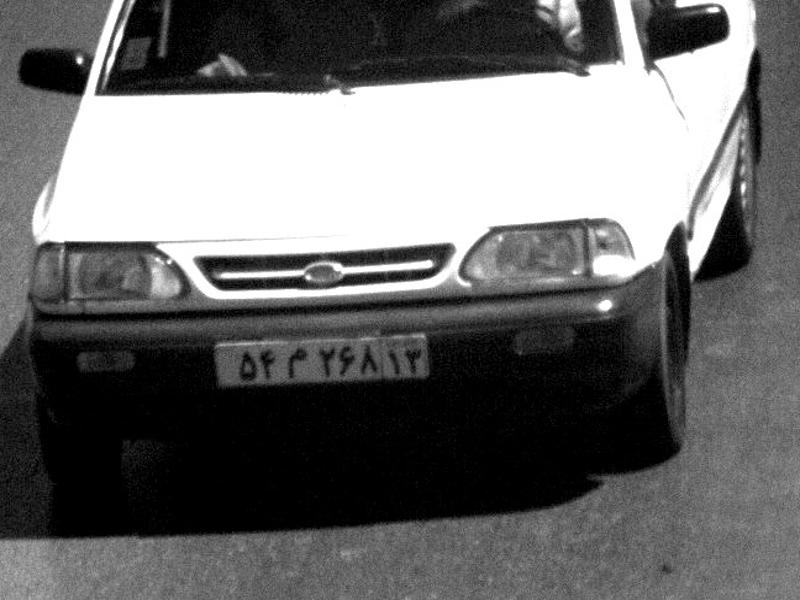Plate: (212, 340, 430, 380)
